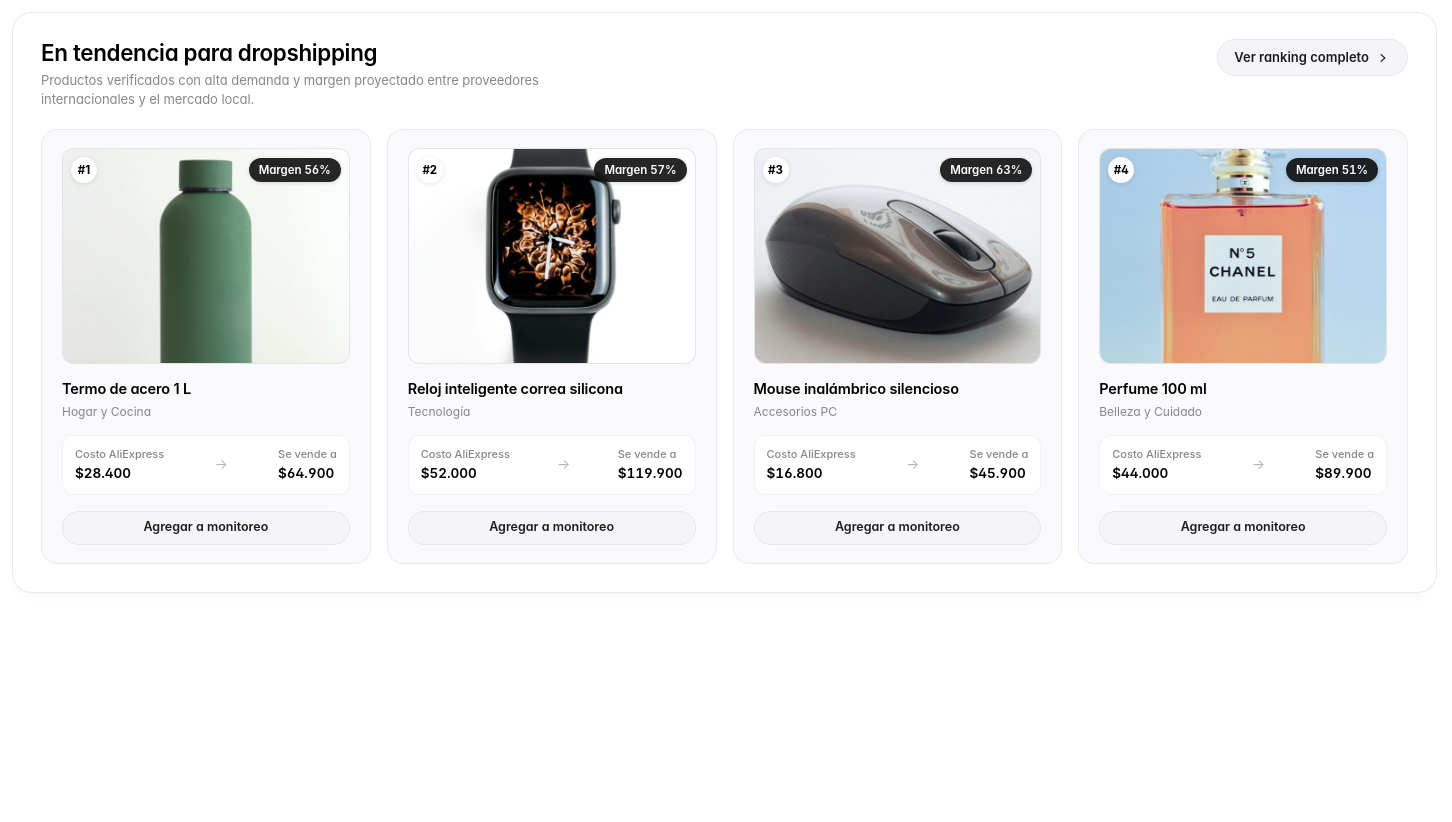
nuevo producto desde el proveedor › conserva el costo, precio de venta y margen anunciados para el perfume
Click the link "Agregar a monitoreo" below "$44.000": (1243, 528) [1099, 510, 1387, 544]
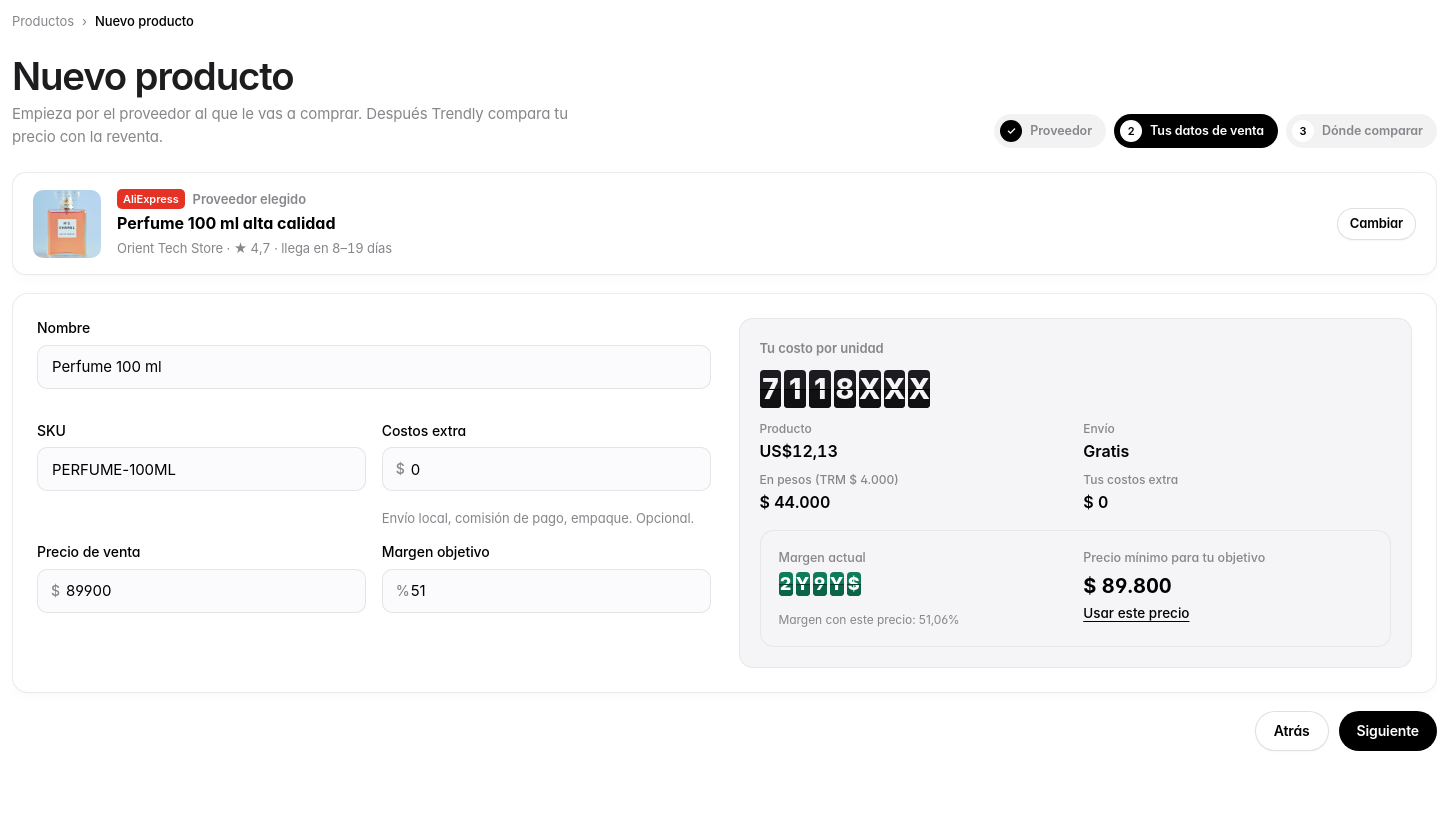
Result: the text "Proveedor elegido" is shown at [193, 191, 306, 207]
Result: the number field labelled "Precio de venta" holds "89900" at [37, 569, 366, 613]
Result: the number field labelled "Margen objetivo" holds "51" at [382, 569, 711, 613]
